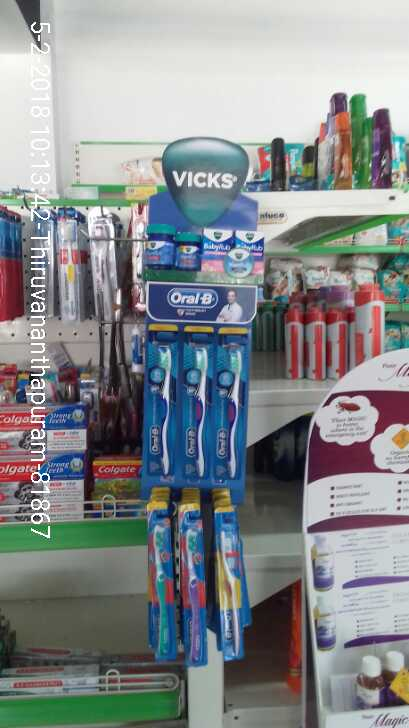pharmacy: (212, 507, 250, 653), (146, 322, 180, 478), (177, 499, 208, 663), (180, 324, 213, 477), (147, 502, 179, 654), (220, 328, 243, 484), (142, 220, 176, 270), (202, 230, 235, 275), (173, 227, 205, 272), (237, 230, 266, 271)
